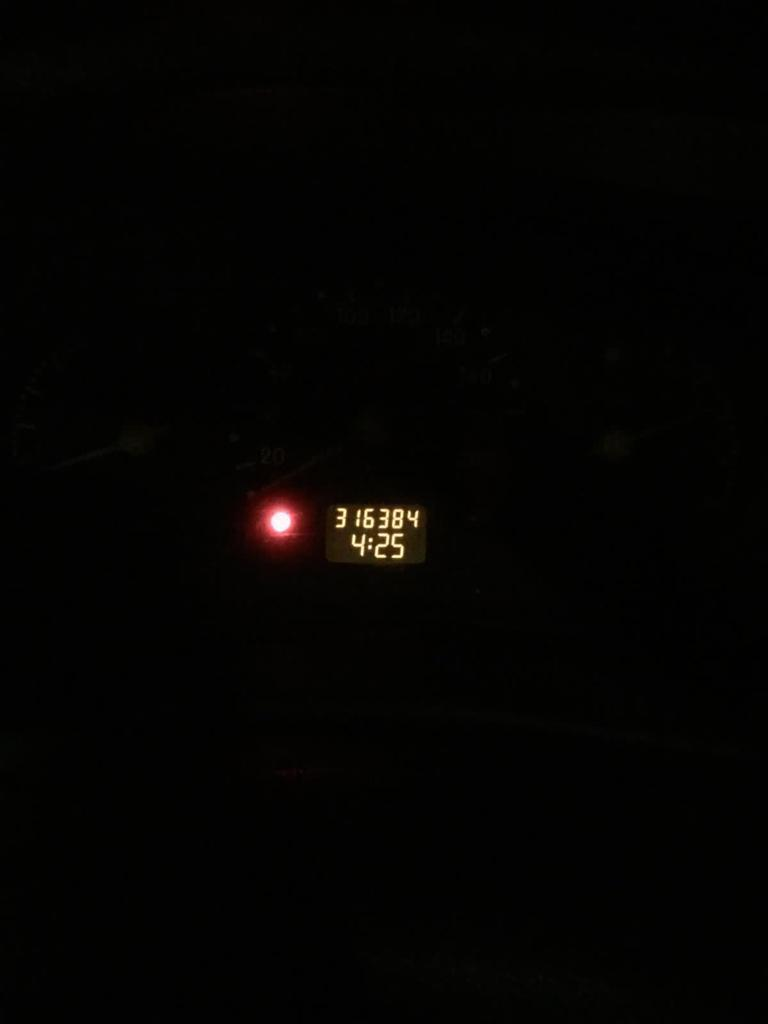1: (354, 508, 361, 528)
2: (373, 532, 389, 558)
3: (334, 507, 347, 528), (377, 507, 389, 529)
4: (350, 533, 366, 557), (405, 509, 418, 528)
5: (390, 532, 404, 559)
6: (362, 508, 374, 528)
8: (391, 508, 404, 529)
X: (367, 536, 373, 550)
odometer: (321, 501, 428, 565)
